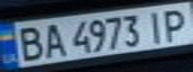3: (121, 11, 145, 47)
4: (66, 17, 90, 54)
7: (103, 15, 127, 51)
9: (87, 16, 109, 52)
A: (36, 20, 69, 58)
B: (9, 24, 48, 63)
I: (142, 8, 172, 44)
P: (157, 6, 193, 42)
